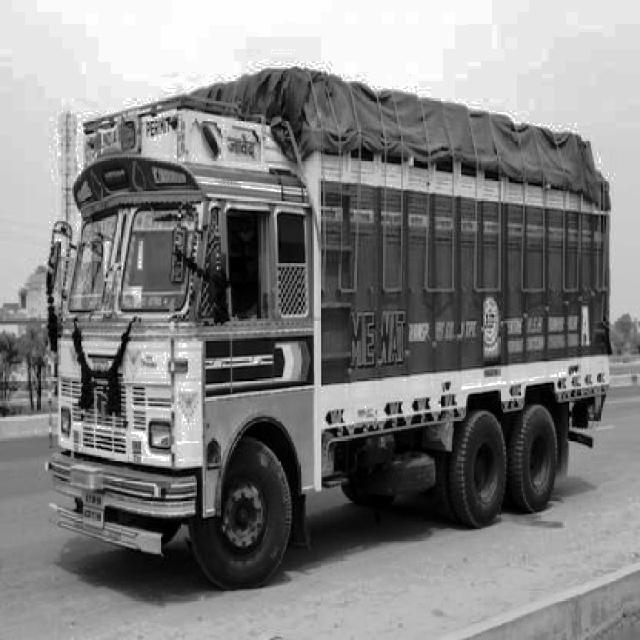HCV: (85, 100, 609, 543)
